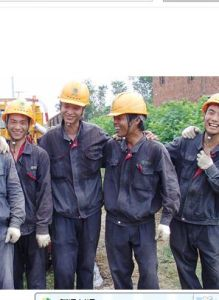safetyhat: (32, 79, 103, 232), (105, 90, 169, 248)
